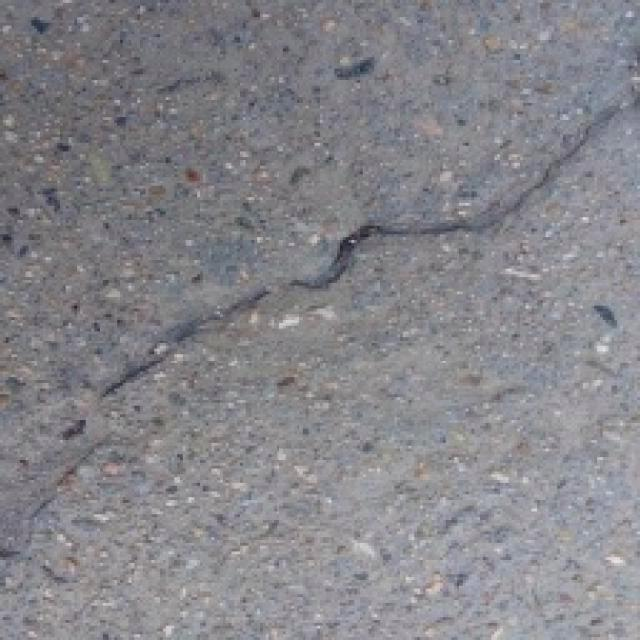SurfaceCrack: (50, 78, 640, 478)
